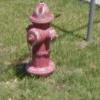Hydrant: (18, 0, 72, 82)
